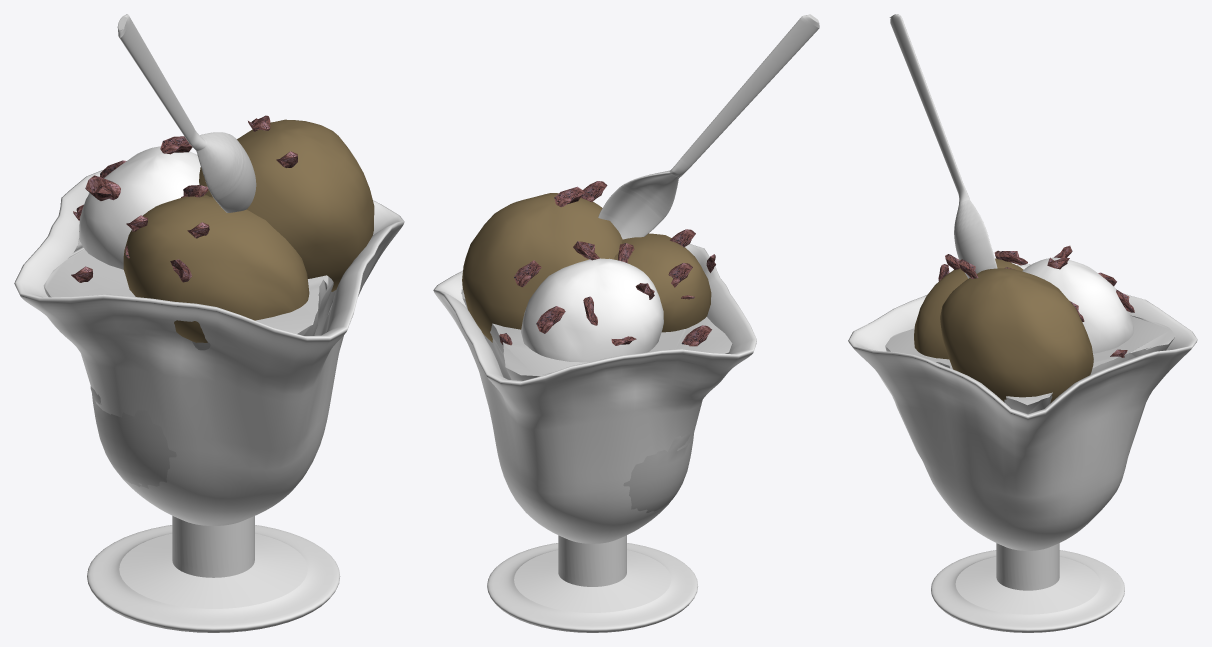
Rendered from IceCream.FBX.
3 views of the same model, side by side, from view 1: azimuth 30°, elevation 25°; view 2: azimuth 150°, elevation 25°; view 3: azimuth 270°, elevation 25° (orthographic). The views are drawn at different scales.
Visible parts, largest first — view 1: Line01, 网格01, Sphere02, Sphere03, 网格02, Sphere01, Loft01-1号, Hedra09; view 2: Line01, 网格01, Sphere03, Sphere01, Loft01-1号, 网格02, Sphere02; view 3: Line01, Sphere03, 网格01, Sphere01, Loft01-1号, 网格02, Sphere02.
Part boxes in pixels (x1,y1,x2,y2): Line01: (14, 170, 404, 568); 网格01: (87, 525, 340, 632); Sphere02: (123, 195, 309, 342); Sphere03: (199, 119, 374, 291); 网格02: (43, 192, 336, 488); Sphere01: (79, 146, 200, 269); Loft01-1号: (117, 14, 256, 212); Hedra09: (85, 175, 120, 200); Line01: (433, 244, 756, 579); 网格01: (487, 543, 697, 632); Sphere03: (462, 193, 622, 342); Sphere01: (521, 258, 663, 362); Loft01-1号: (598, 14, 819, 239); 网格02: (461, 289, 732, 512); Sphere02: (614, 233, 711, 332); Line01: (848, 264, 1197, 583); Sphere03: (940, 268, 1093, 403); 网格01: (931, 550, 1124, 632); Sphere01: (1022, 257, 1133, 353); Loft01-1号: (889, 14, 997, 278); 网格02: (885, 315, 1175, 414); Sphere02: (914, 258, 1023, 359).
Size of what is drawn, in the model's own units: 106 by 179 by 111.
